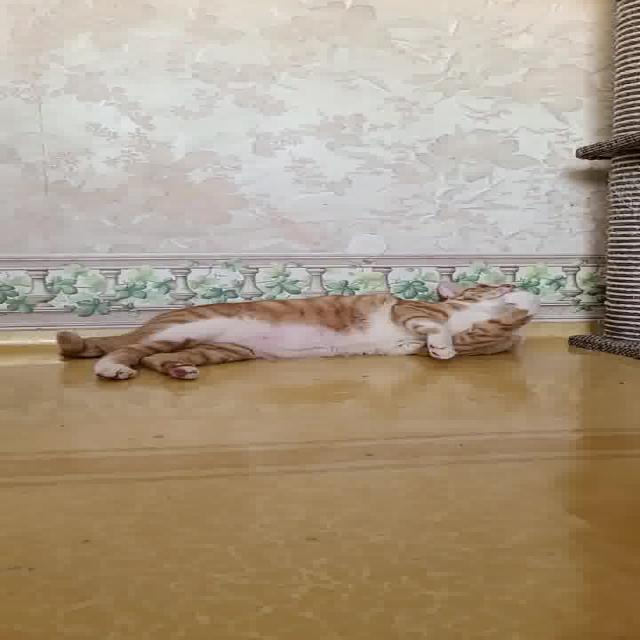cat: (25, 256, 587, 411)
